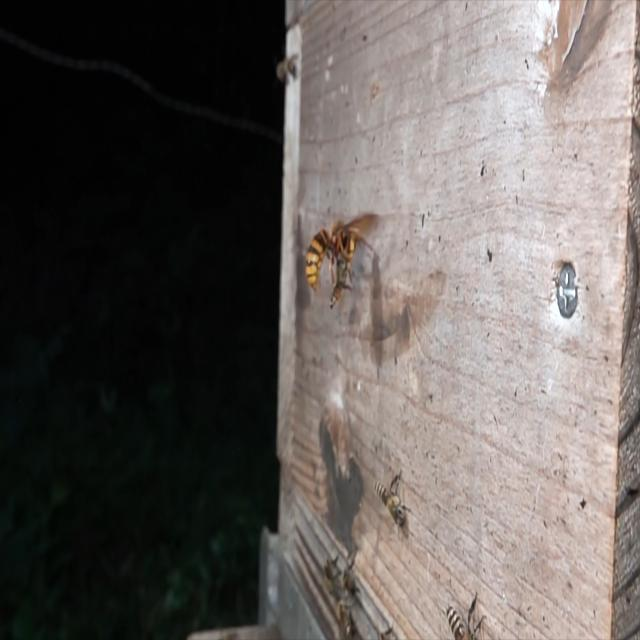Bees: (374, 470, 411, 541), (329, 272, 352, 310)
Hornets: (307, 214, 363, 298)
